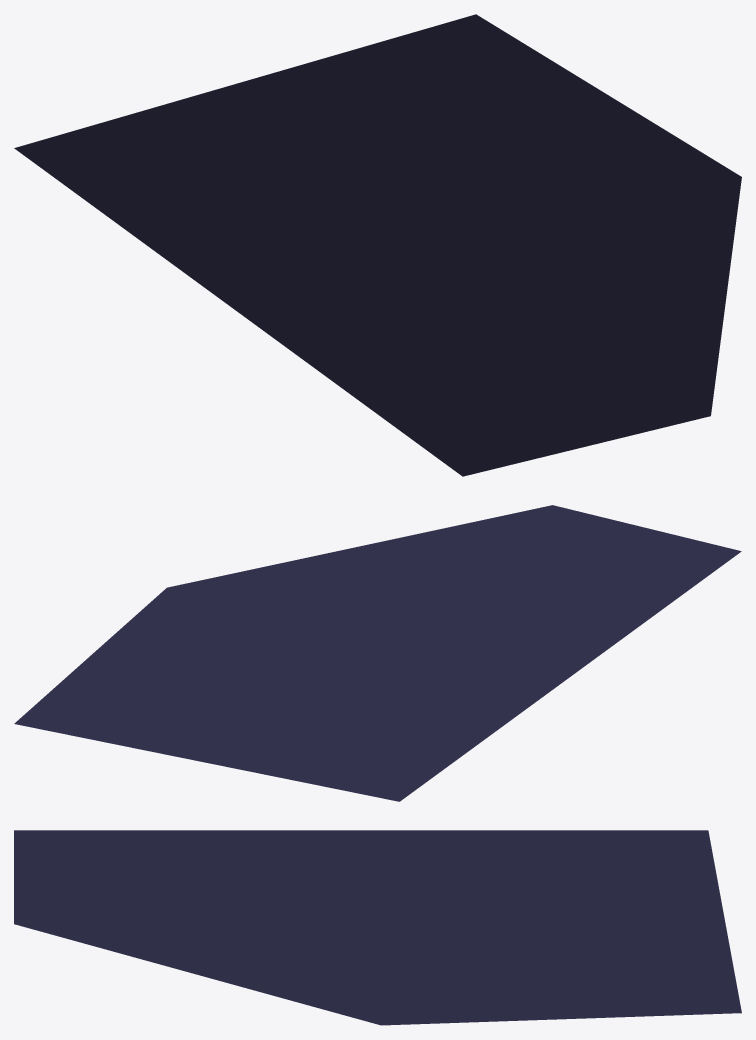
3 views of the same model, one above another, from view 1: azimuth 30°, elevation 25°; view 2: azimuth 150°, elevation 25°; view 3: azimuth 270°, elevation 25° (orthographic). The views are drawn at different scales.
Parts seen in each view (by area): view 1: Joint_0_Object_0; view 2: Joint_0_Object_0; view 3: Joint_0_Object_0.
Boxes of the visible parts, x1,y1,x2,y2 form: Joint_0_Object_0: [14, 14, 741, 476]; Joint_0_Object_0: [14, 505, 741, 801]; Joint_0_Object_0: [14, 830, 741, 1025].
Size of the model in its own units: 988 by 0 by 1559.
Materials: 1 (1 with a texture image).
